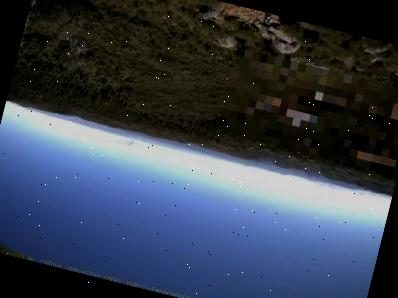smoke: (120, 134, 139, 150)
